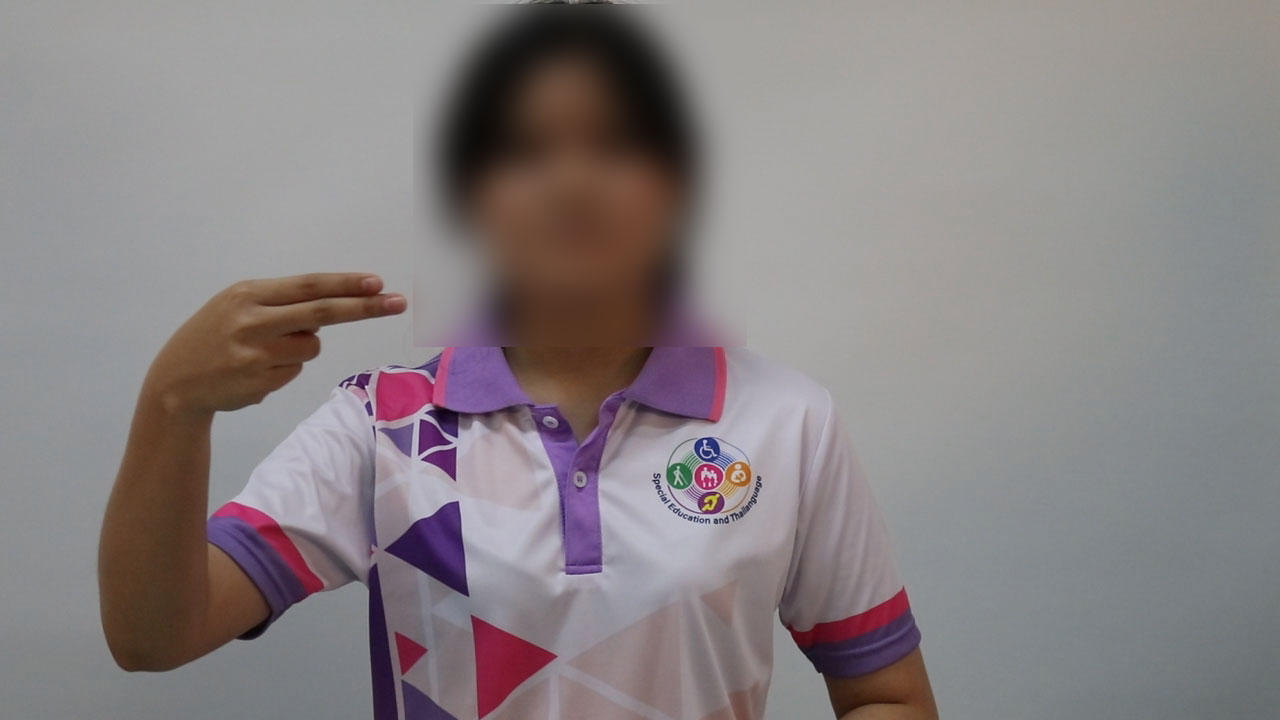hor: (147, 252, 417, 423)
